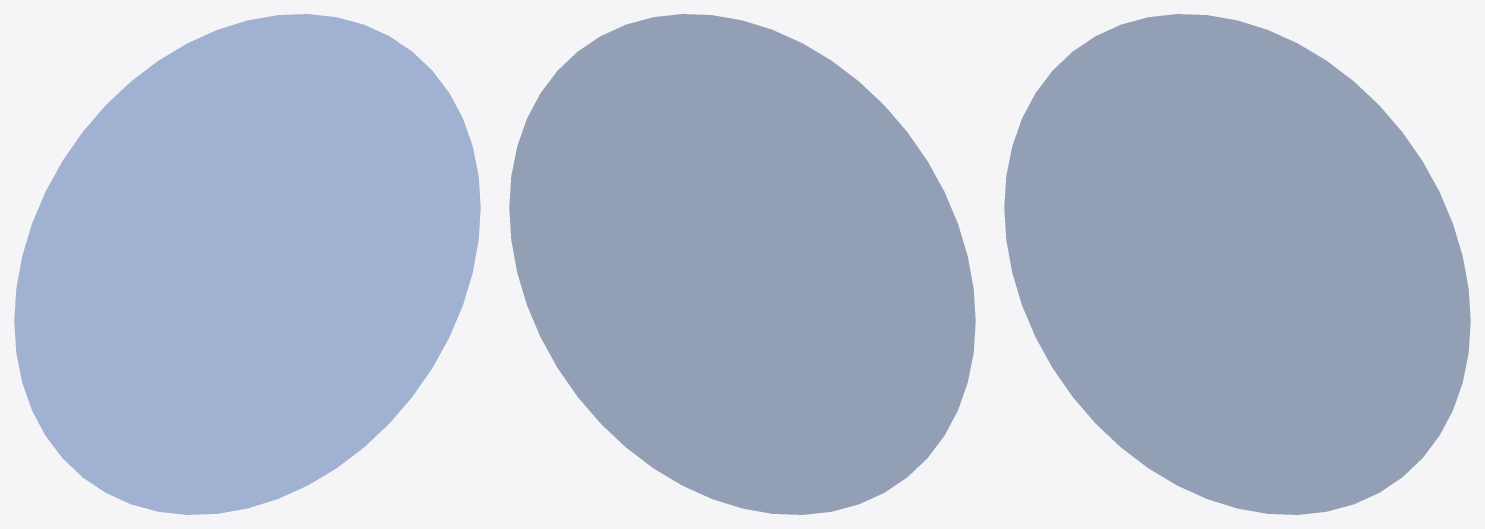
The model's file is original-49.obj.
3 renders of one model, left to right at view 1: azimuth 30°, elevation 25°; view 2: azimuth 150°, elevation 25°; view 3: azimuth 330°, elevation 25°, orthographic.
Parts seen in each view (by area): view 1: Group4/mesh3/mesh3-geometry/material_5#mesh3-geometry; view 2: Group4/mesh3/mesh3-geometry/material_5#mesh3-geometry; view 3: Group4/mesh3/mesh3-geometry/material_5#mesh3-geometry.
Part boxes in pixels (bbox=[...]): Group4/mesh3/mesh3-geometry/material_5#mesh3-geometry: bbox=[14, 14, 480, 514]; Group4/mesh3/mesh3-geometry/material_5#mesh3-geometry: bbox=[509, 14, 975, 514]; Group4/mesh3/mesh3-geometry/material_5#mesh3-geometry: bbox=[1004, 14, 1470, 514].
Size of the model in its own units: 0.2671 by 0.2671 by 0.
